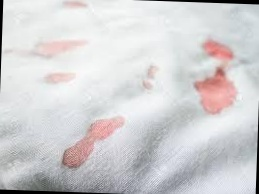blood: (194, 70, 236, 116), (90, 117, 124, 140), (64, 142, 91, 166), (203, 41, 232, 60)
